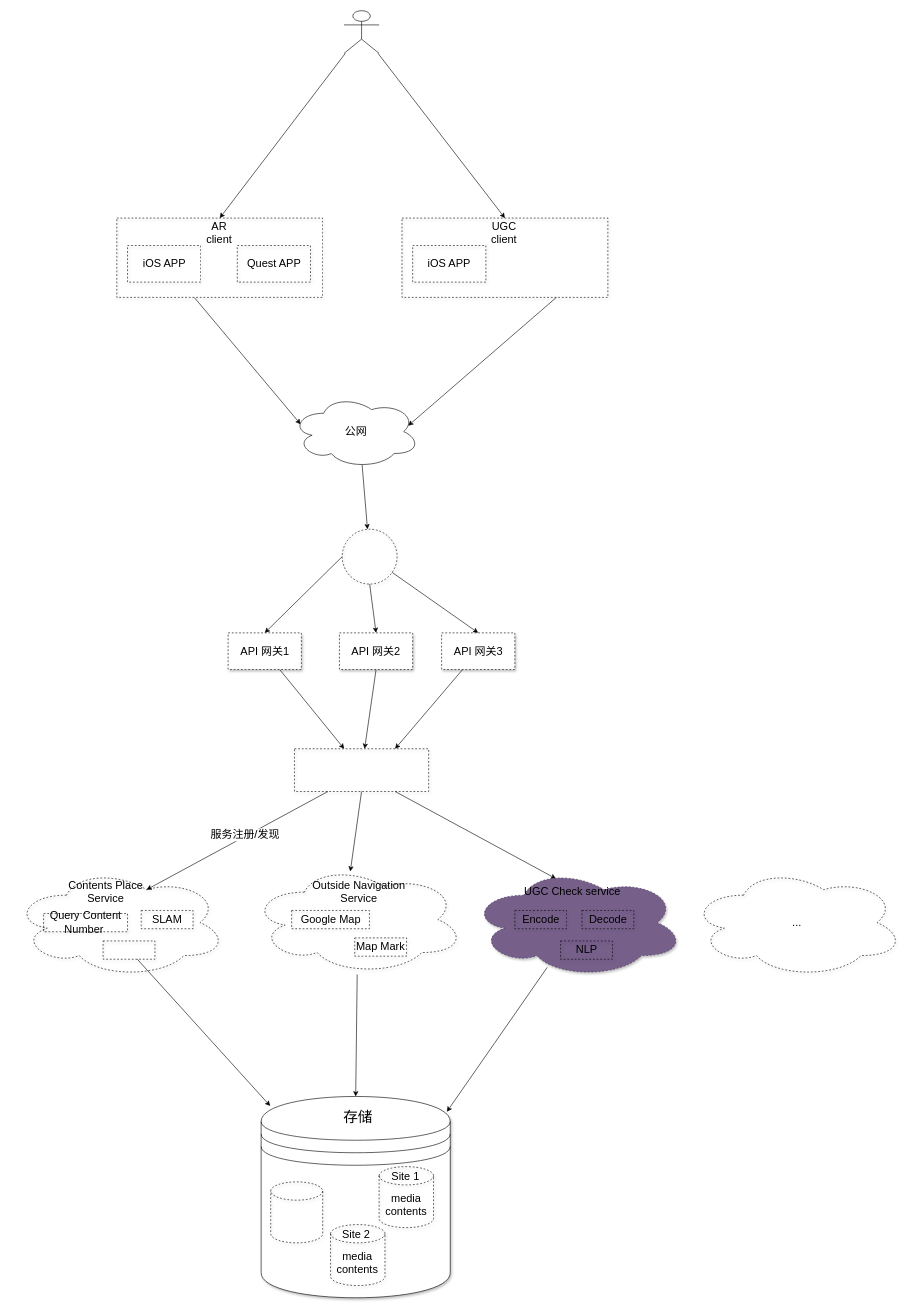
This 918x1313 diagram has some shape labels left out. The shapes that lost their labels are listed below. From the top down, each one's centre as x and y in pixels, then its label:
the point at 361,31: User
the point at 370,557: 反向代理
the point at 361,771: service monitor center
the point at 129,950: Get the Content
the point at 297,1213: user data
